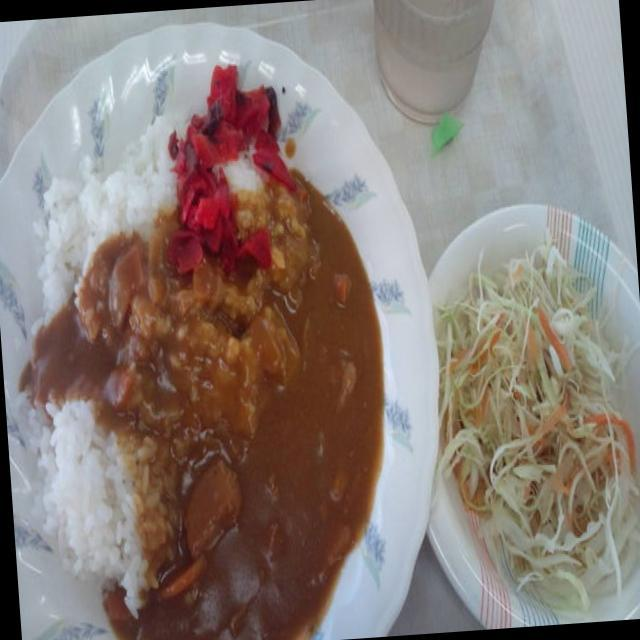Beef Curry: (98, 173, 417, 640)
Green Salad: (439, 259, 640, 591)
